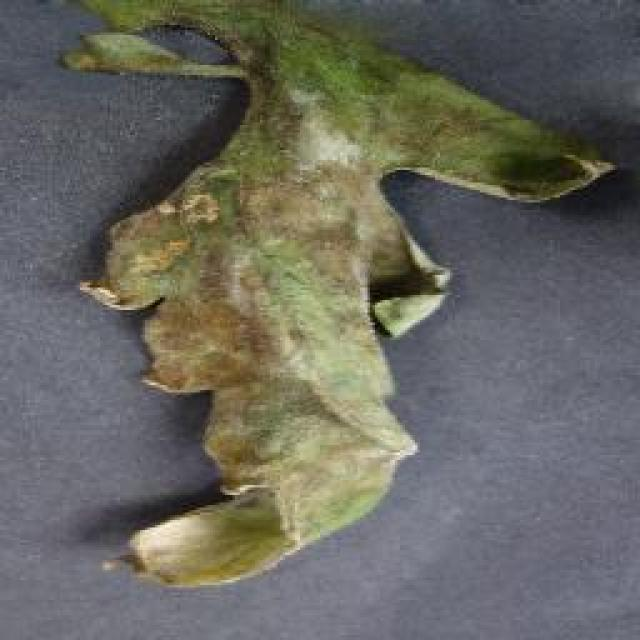Tomato___Late_blight: (63, 0, 619, 589)
